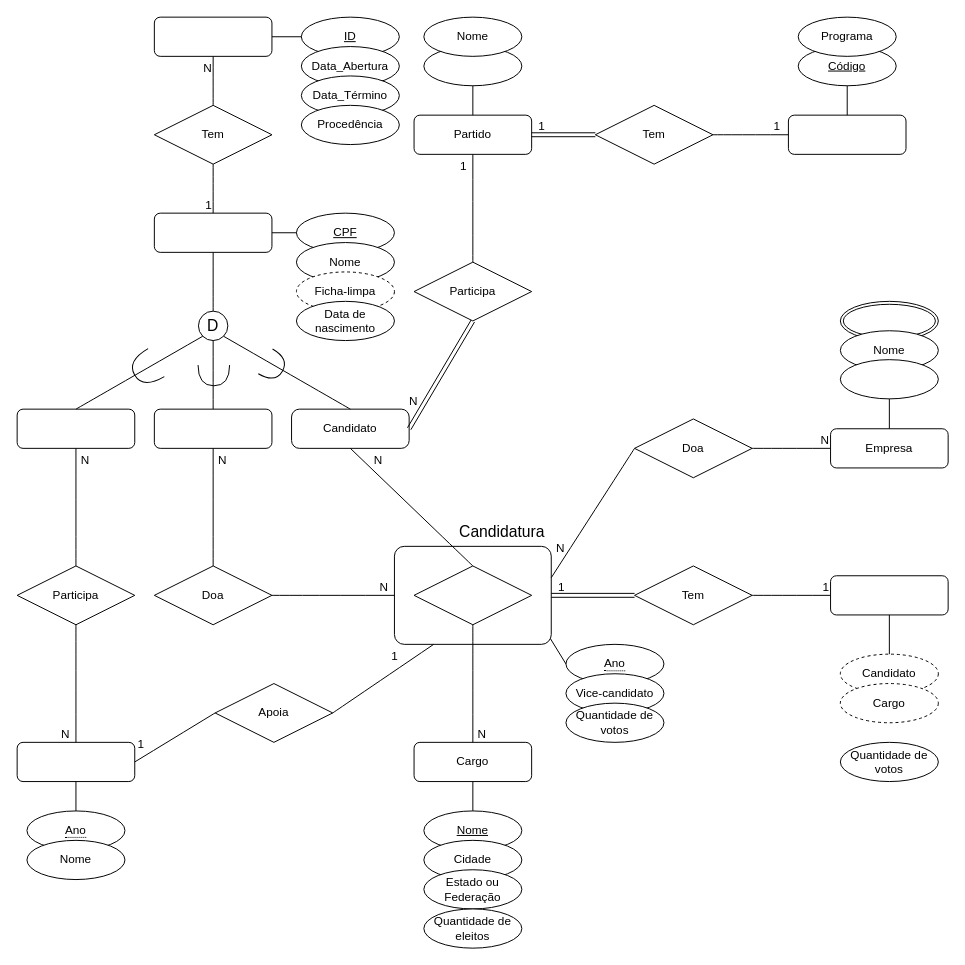
The diagram is 965 pixels wide and 965 high, and some of its shapes have lost their labels. Each missing label, with the centre of its shape:
Candidata: (x=472, y=595)
CNPJ: (x=888, y=379)
Doador: (x=212, y=428)
Equipe de apoio: (x=75, y=761)
Indivíduo: (x=212, y=232)
Participante equipe de apoio: (x=75, y=428)
Pleito: (x=889, y=595)
Processo judicial: (x=212, y=36)
Programa de partido: (x=846, y=134)
Sigla: (x=472, y=66)
Telefone: (x=888, y=320)
